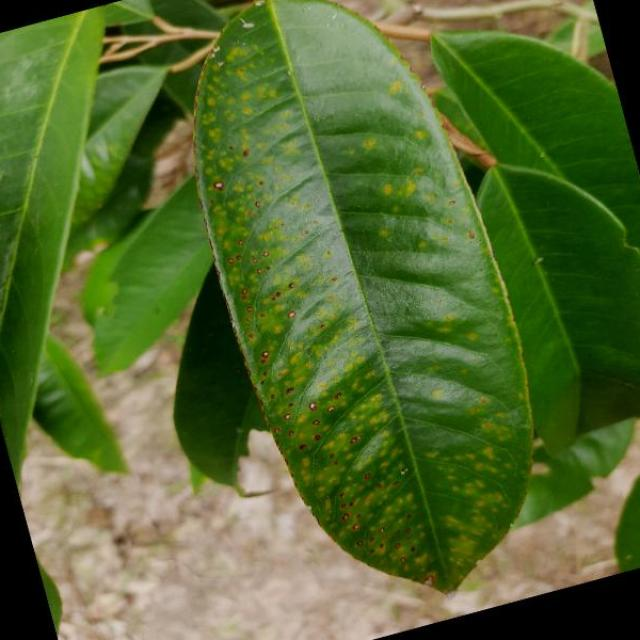Leaf Spot: (131, 0, 592, 640)
